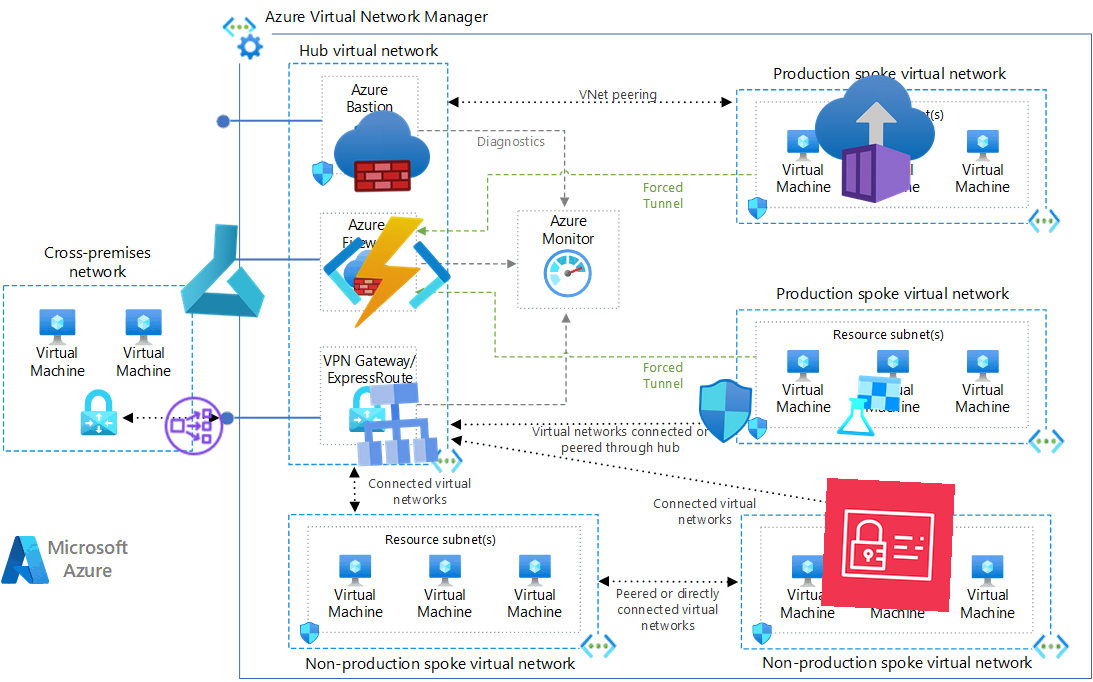aws_elastic_load_balancing_network_load_balancer: (161, 393, 227, 459)
aws_identity_and_access_management: (821, 478, 955, 612)
azure_container_instances: (810, 74, 940, 204)
azure_firewalls: (333, 102, 431, 200)
azure_function_apps: (318, 204, 456, 342)
azure_machine_learning: (173, 219, 275, 321)
azure_machine_learning_studio_workspaces: (834, 371, 904, 441)
azure_network_security_groups: (691, 377, 759, 445)
gcp_cloud_load_balancing: (345, 373, 447, 475)
